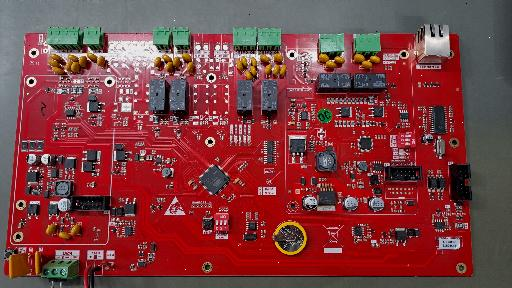var: (8, 252, 31, 279), (35, 250, 41, 275), (48, 59, 62, 68), (46, 224, 57, 235), (71, 224, 81, 235), (353, 54, 365, 63), (318, 53, 330, 62), (97, 56, 106, 68), (165, 62, 174, 73), (71, 62, 80, 73), (325, 60, 337, 68), (236, 60, 244, 72), (67, 54, 79, 62), (79, 56, 87, 68), (53, 67, 66, 74), (182, 53, 192, 62), (273, 53, 283, 62), (334, 56, 345, 64), (361, 61, 373, 68), (241, 56, 248, 68), (187, 62, 194, 74), (265, 64, 272, 76), (59, 232, 71, 239), (246, 70, 254, 80), (87, 53, 97, 61), (369, 56, 380, 63), (154, 57, 161, 68), (273, 65, 280, 76), (250, 66, 257, 77), (280, 65, 286, 77), (260, 55, 270, 62), (251, 57, 257, 68), (508, 0, 512, 6), (506, 0, 512, 4)
